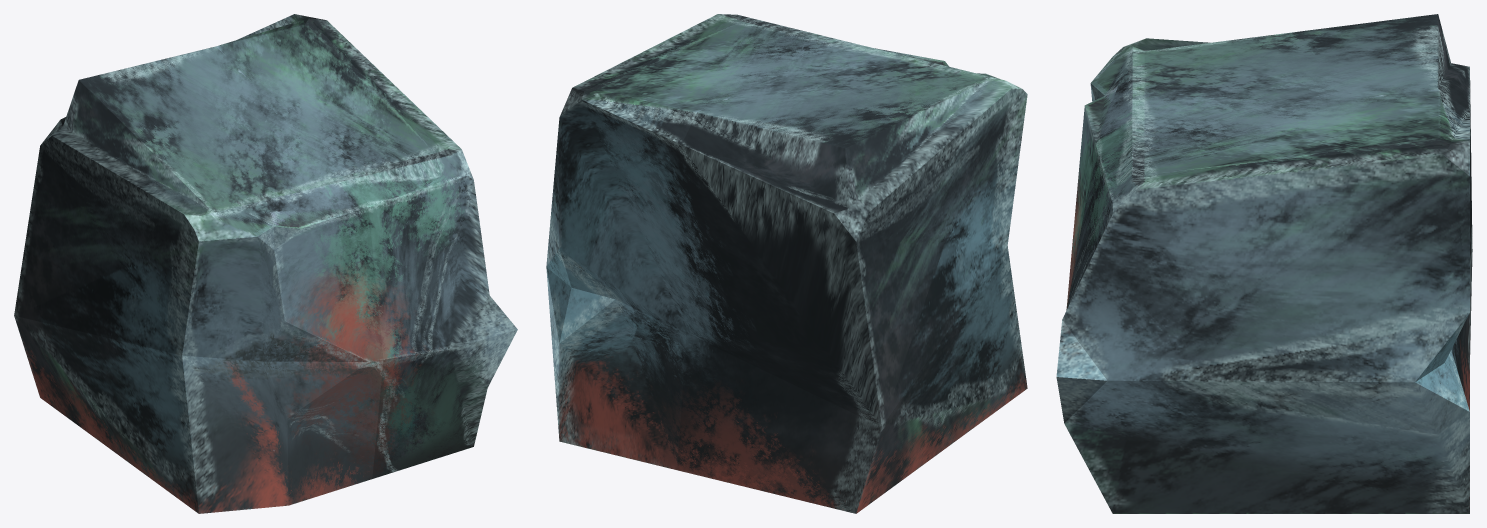
The model's file is Rock 5.fbx.
The picture shows the model from 3 angles, left to right: view 1: azimuth 30°, elevation 25°; view 2: azimuth 150°, elevation 25°; view 3: azimuth 270°, elevation 25°; orthographic projection. The views are drawn at different scales.
Parts seen in each view (by area): view 1: Rock 5; view 2: Rock 5; view 3: Rock 5.
Part boxes in pixels (x1=…): Rock 5: x1=14, y1=14, x2=517, y2=513; Rock 5: x1=546, y1=14, x2=1027, y2=513; Rock 5: x1=1056, y1=14, x2=1472, y2=513.
Bounding box in the file's own units: 245 × 224 × 233.
1 material, 1 textured.
